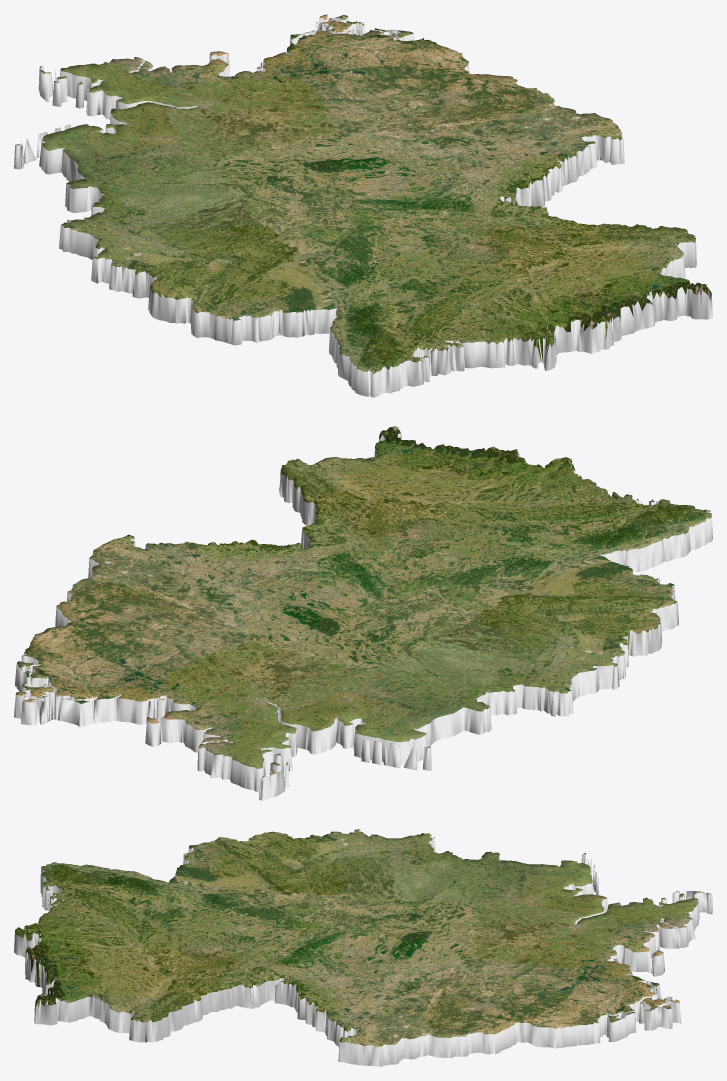
File: germany_low.fbx
3 renders of one model, top to bottom at view 1: azimuth 30°, elevation 25°; view 2: azimuth 150°, elevation 25°; view 3: azimuth 270°, elevation 25°, orthographic. The views are drawn at different scales.
Parts seen in each view (by area): view 1: terrain; view 2: terrain; view 3: terrain.
Part boxes in pixels (bbox=[...]): terrain: bbox=[14, 14, 712, 397]; terrain: bbox=[14, 426, 712, 800]; terrain: bbox=[14, 829, 712, 1066].
Size of the model in its own units: 641 by 43.83 by 868.
Materials: 2 (1 with a texture image).
